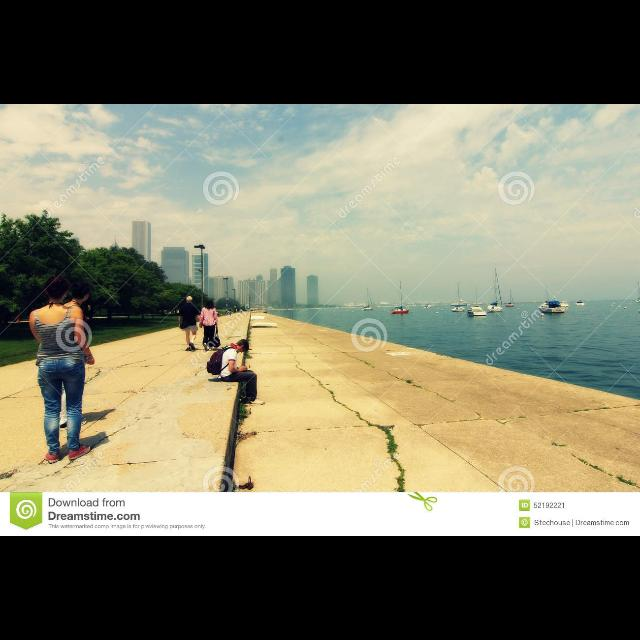head: (44, 277, 70, 301), (72, 282, 90, 302), (237, 340, 250, 354), (205, 300, 212, 308), (187, 296, 193, 302)
person: (29, 275, 95, 465), (53, 282, 95, 432), (206, 338, 268, 406), (178, 296, 204, 352), (199, 300, 221, 352)
